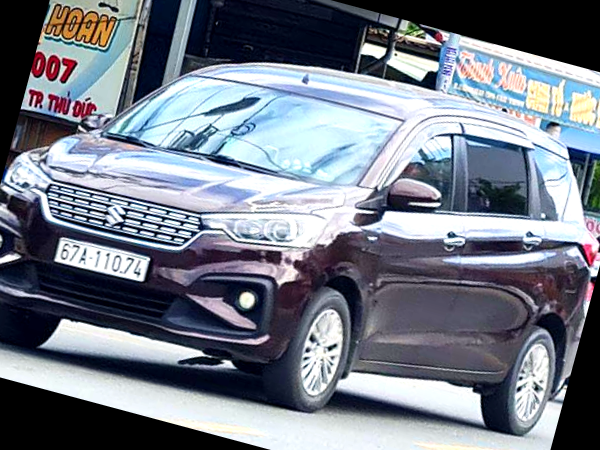lisence: (53, 238, 149, 282)
